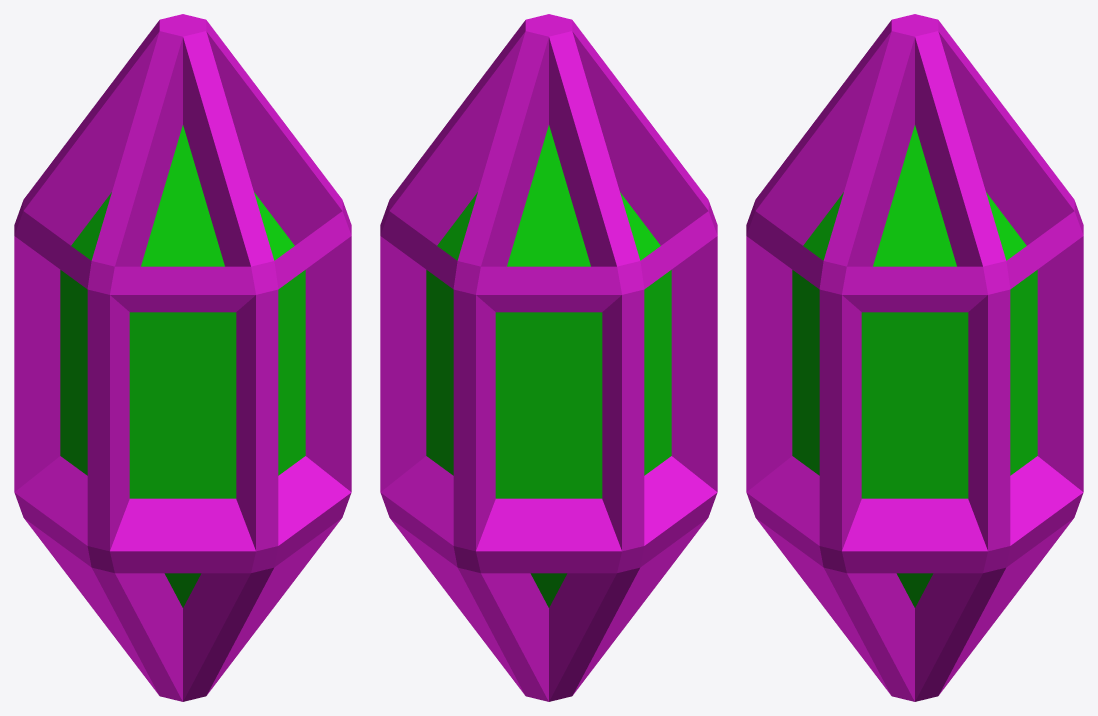
The model's file is SM_Gem_3.fbx.
The picture shows the model from 3 angles, left to right: view 1: azimuth 30°, elevation 25°; view 2: azimuth 150°, elevation 25°; view 3: azimuth 270°, elevation 25°; orthographic projection.
Visible parts, largest first — view 1: Cylinder; view 2: Cylinder; view 3: Cylinder.
Part boxes in pixels (x1,y1,x2,y2): Cylinder: (14,14,351,701); Cylinder: (380,14,717,701); Cylinder: (746,14,1083,701).
Bounding box in the file's own units: 0.044 × 0.1059 × 0.0487.
